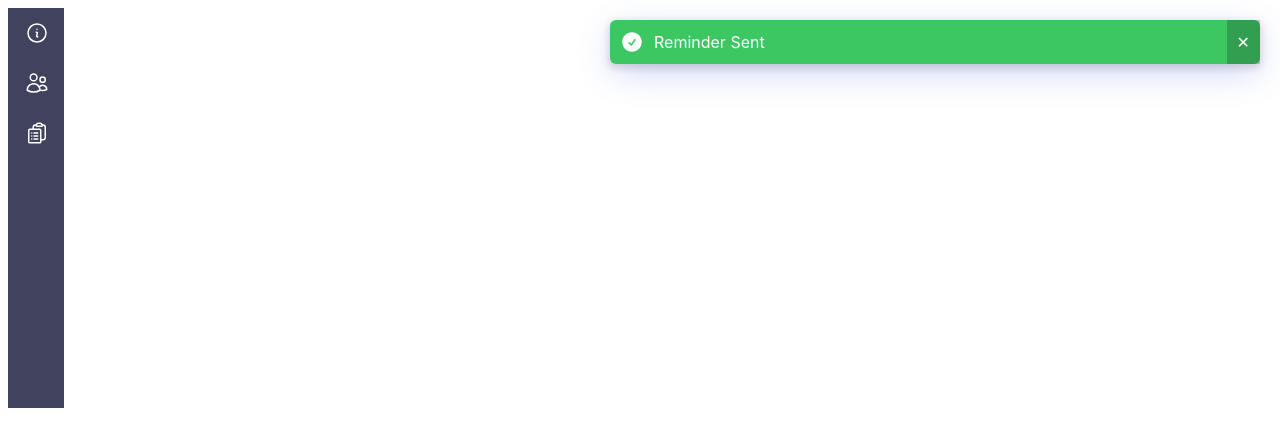
Scenario: EnvelopeSidebar › renders the history timeline
Click the tab named "History": (36,133) x1=8 y1=108 x2=64 y2=158
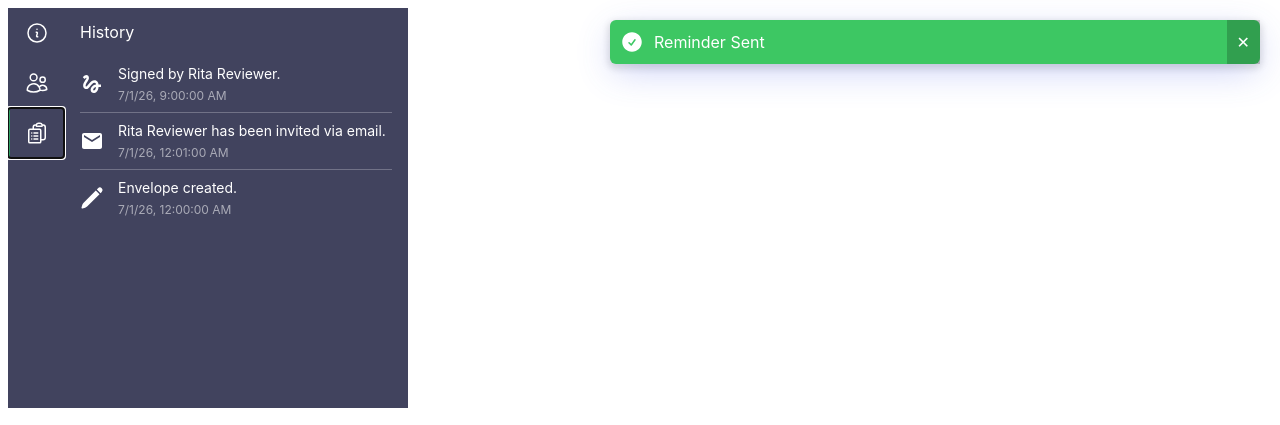
Expected: the text "Rita Reviewer has been invited via email." is shown, x1=118 y1=121 x2=386 y2=141
Expected: the text "Signed by Rita Reviewer." is shown, x1=118 y1=64 x2=280 y2=84
Expected: the text "Envelope created." is shown, x1=118 y1=178 x2=237 y2=198
